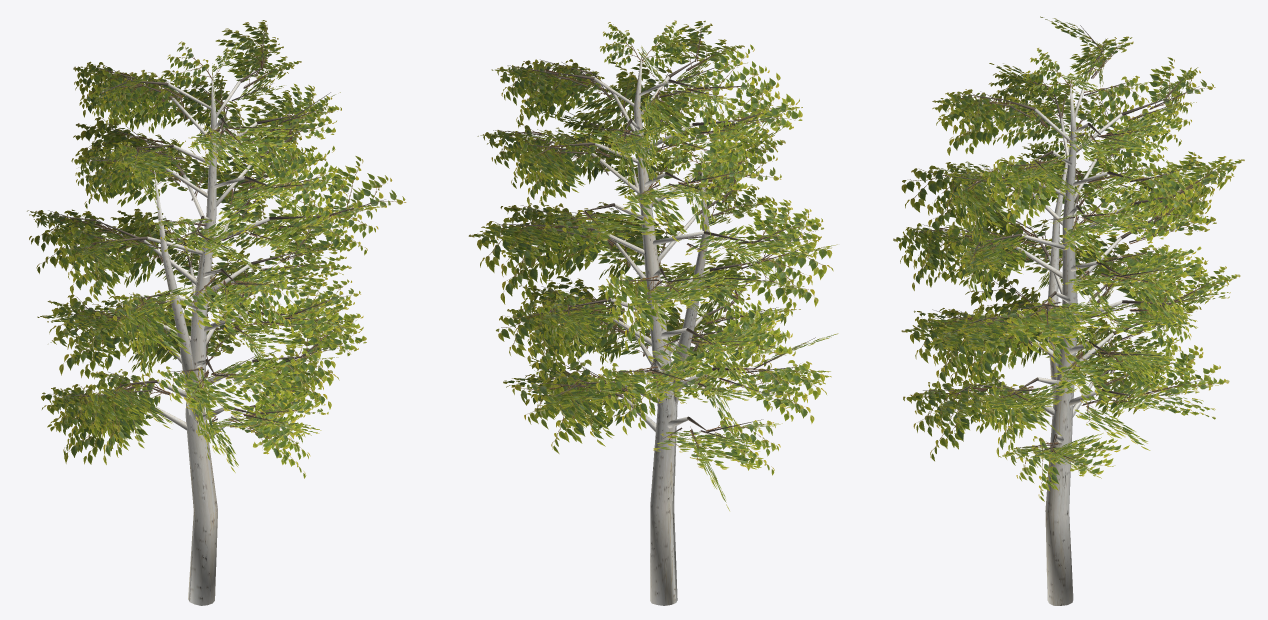
The model's file is CW_CardedRiverBirch.fbx.
3 views of the same model, side by side, from view 1: azimuth 30°, elevation 25°; view 2: azimuth 150°, elevation 25°; view 3: azimuth 270°, elevation 25° (orthographic). The views are drawn at different scales.
Visible parts, largest first — view 1: CW_CardedRiverBirch_Leaves, CW_CardedRiverBirch_WhiteBark, CW_CardedRiverBirch_FineTwigs; view 2: CW_CardedRiverBirch_Leaves, CW_CardedRiverBirch_WhiteBark, CW_CardedRiverBirch_FineTwigs; view 3: CW_CardedRiverBirch_Leaves, CW_CardedRiverBirch_WhiteBark, CW_CardedRiverBirch_FineTwigs.
Part boxes in pixels (left/top/right/bottom): CW_CardedRiverBirch_Leaves: left=27, top=20, right=406, bottom=478; CW_CardedRiverBirch_WhiteBark: left=143, top=70, right=269, bottom=605; CW_CardedRiverBirch_FineTwigs: left=48, top=27, right=385, bottom=436; CW_CardedRiverBirch_Leaves: left=468, top=20, right=838, bottom=510; CW_CardedRiverBirch_WhiteBark: left=591, top=52, right=712, bottom=605; CW_CardedRiverBirch_FineTwigs: left=493, top=26, right=815, bottom=451; CW_CardedRiverBirch_Leaves: left=893, top=16, right=1244, bottom=501; CW_CardedRiverBirch_WhiteBark: left=1012, top=72, right=1122, bottom=605; CW_CardedRiverBirch_FineTwigs: left=912, top=25, right=1224, bottom=463.
Bounding box in the file's own units: 4.53 × 7.21 × 4.33.
Materials: 3 (2 with a texture image).
